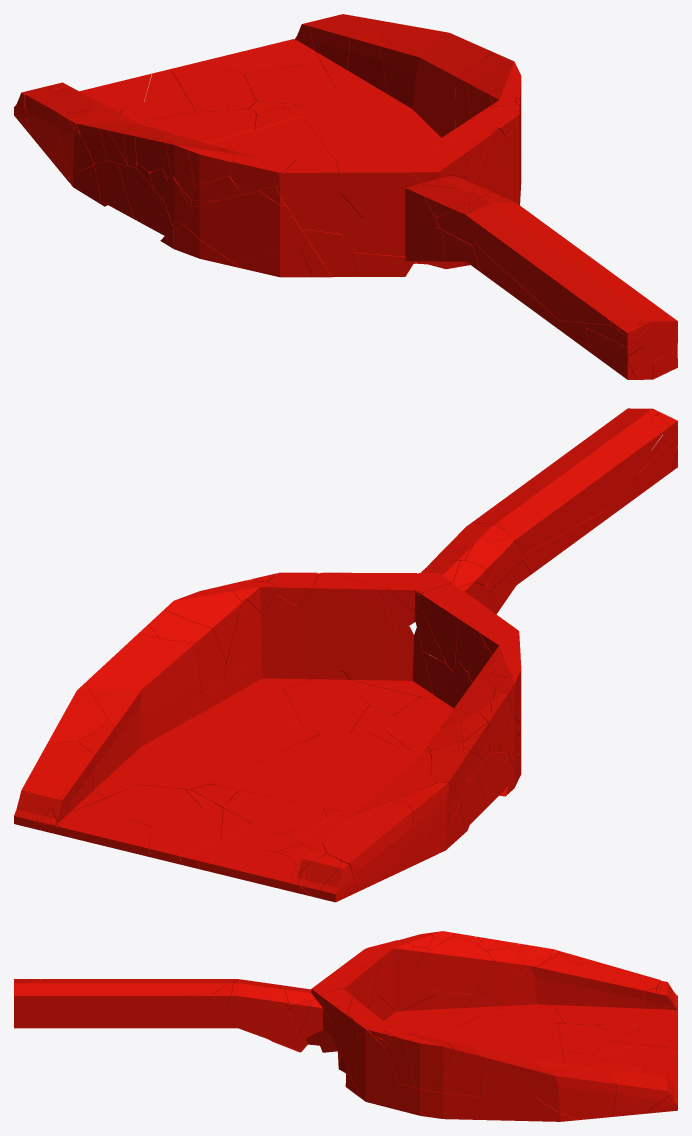
Rendered from Dustpan.fbx.
3 views of the same model, one above another, from view 1: azimuth 30°, elevation 25°; view 2: azimuth 150°, elevation 25°; view 3: azimuth 270°, elevation 25° (orthographic). The views are drawn at different scales.
Parts seen in each view (by area): view 1: Cube_cell.019, Cube_cell.005, Cube_cell.025_cell, Cube_cell.039_cell.003, Cube_cell.039_cell.005, Cube_cell.039_cell.006, Cube_cell.051, Cube_cell.017_cell.001, Cube_cell.017_cell.004, Cube_cell.017_cell.003, Cube_cell.037_cell.002, Cube_cell.037_cell.004 (+43 smaller); view 2: Cube_cell.019, Cube_cell.005, Cube_cell.051, Cube_cell.023_cell.001, Cube_cell.052_cell.001, Cube_cell.004, Cube_cell.037_cell.002, Cube_cell.038_cell.006, Cube_cell.023_cell.005, Cube_cell.017_cell.003, Cube_cell.017_cell.001, Cube_cell.017_cell.004 (+39 smaller); view 3: Cube_cell.045, Cube_cell.005, Cube_cell.051, Cube_cell.019, Cube_cell.037_cell, Cube_cell.016_cell.005, Cube_cell.004, Cube_cell.052_cell.001, Cube_cell.023_cell.005, Cube_cell.037_cell.002, Cube_cell.054_cell.004, Cube_cell.018_cell.004 (+39 smaller).
Boxes of the visible parts, <box> form: Cube_cell.019: <box>302,35,490,157</box>; Cube_cell.005: <box>465,208,677,362</box>; Cube_cell.025_cell: <box>189,190,307,263</box>; Cube_cell.039_cell.003: <box>343,179,436,264</box>; Cube_cell.039_cell.005: <box>277,157,340,233</box>; Cube_cell.039_cell.006: <box>335,155,416,217</box>; Cube_cell.051: <box>208,116,331,158</box>; Cube_cell.017_cell.001: <box>244,62,336,104</box>; Cube_cell.017_cell.004: <box>170,61,256,109</box>; Cube_cell.017_cell.003: <box>201,23,320,73</box>; Cube_cell.037_cell.002: <box>307,14,391,72</box>; Cube_cell.037_cell.004: <box>327,32,389,93</box>; Cube_cell.019: <box>85,633,320,789</box>; Cube_cell.005: <box>490,408,662,554</box>; Cube_cell.051: <box>210,732,409,810</box>; Cube_cell.023_cell.001: <box>297,573,397,681</box>; Cube_cell.052_cell.001: <box>321,800,412,887</box>; Cube_cell.004: <box>188,662,301,725</box>; Cube_cell.037_cell.002: <box>19,741,105,821</box>; Cube_cell.038_cell.006: <box>341,626,433,698</box>; Cube_cell.023_cell.005: <box>251,581,306,688</box>; Cube_cell.017_cell.003: <box>52,793,151,857</box>; Cube_cell.017_cell.001: <box>89,785,201,827</box>; Cube_cell.017_cell.004: <box>149,807,222,865</box>; Cube_cell.045: <box>14,993,225,1028</box>; Cube_cell.005: <box>14,979,239,1011</box>; Cube_cell.051: <box>440,1014,563,1063</box>; Cube_cell.019: <box>469,1046,577,1121</box>; Cube_cell.037_cell: <box>537,1067,616,1119</box>; Cube_cell.016_cell.005: <box>415,939,493,994</box>; Cube_cell.004: <box>376,1083,513,1120</box>; Cube_cell.052_cell.001: <box>586,960,660,1016</box>; Cube_cell.023_cell.005: <box>355,1031,397,1104</box>; Cube_cell.037_cell.002: <box>604,1070,677,1116</box>; Cube_cell.054_cell.004: <box>524,955,591,1009</box>; Cube_cell.018_cell.004: <box>222,980,278,1034</box>.
Size of the model in its own units: 232 by 66.62 by 515.
